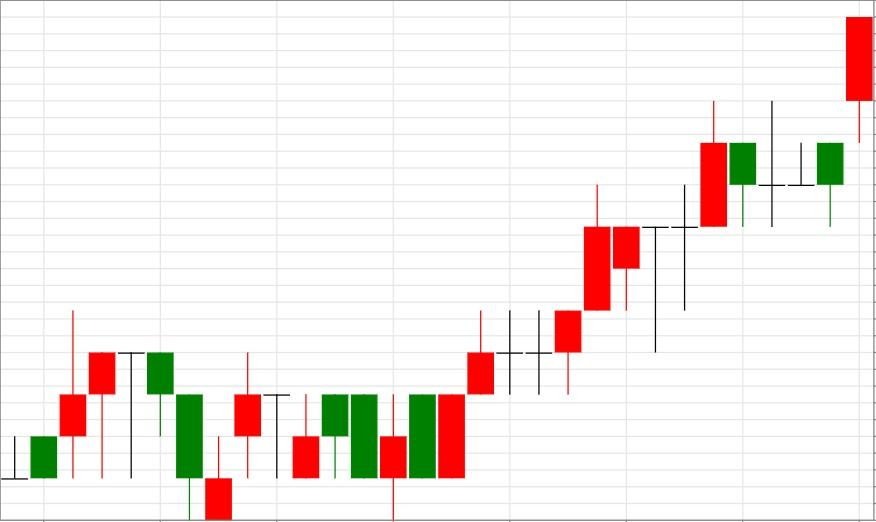evening_star_fall: (0, 311, 174, 481)
